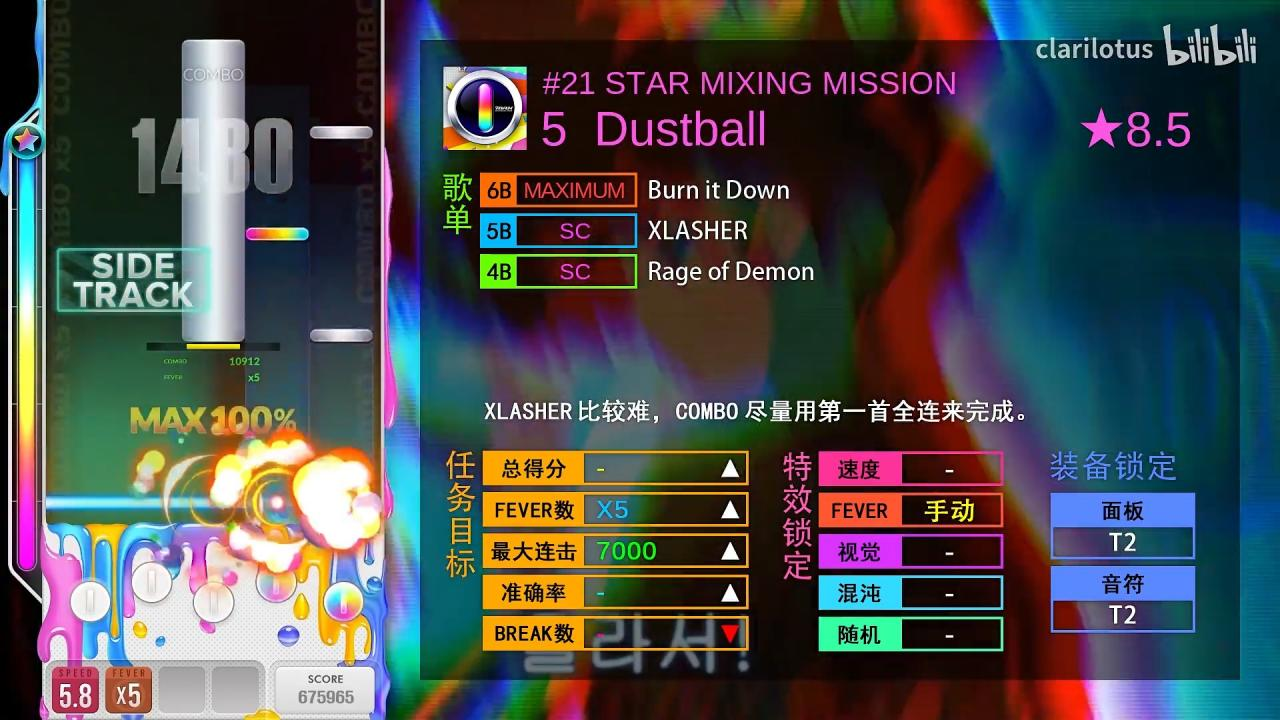hold-end: (182, 40, 245, 51)
hold-start: (182, 328, 245, 342)
note: (309, 328, 374, 343), (245, 227, 309, 241), (310, 126, 372, 139)
